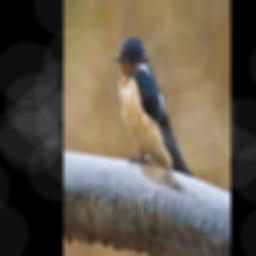Swallow: (113, 35, 193, 178)
